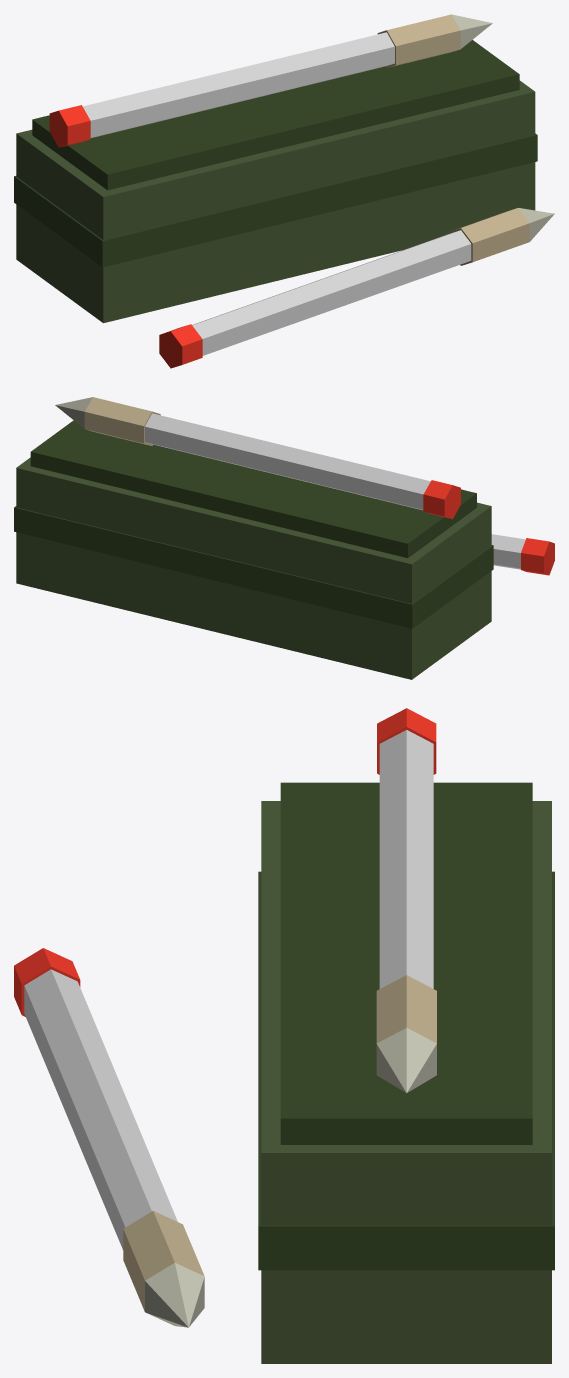
File: ce_ammo2_s5_heat_c.obj
3 views of the same model, one above another, from view 1: azimuth 30°, elevation 25°; view 2: azimuth 150°, elevation 25°; view 3: azimuth 270°, elevation 25° (orthographic). The views are drawn at different scales.
Visible parts, largest first — view 1: ce_ammo2_s5_heat_c_0, ce_ammo2_s5_heat_c_1, ce_ammo2_s5_heat_c_2, ce_ammo2_s5_heat_c_4, ce_ammo2_s5_heat_c_8, ce_ammo2_s5_heat_c_5, ce_ammo2_s5_heat_c_9, ce_ammo2_s5_heat_c_7, ce_ammo2_s5_heat_c_3, ce_ammo2_s5_heat_c_6, ce_ammo2_s5_heat_c_10; view 2: ce_ammo2_s5_heat_c_0, ce_ammo2_s5_heat_c_1, ce_ammo2_s5_heat_c_2, ce_ammo2_s5_heat_c_4, ce_ammo2_s5_heat_c_5, ce_ammo2_s5_heat_c_3, ce_ammo2_s5_heat_c_7, ce_ammo2_s5_heat_c_8, ce_ammo2_s5_heat_c_6; view 3: ce_ammo2_s5_heat_c_1, ce_ammo2_s5_heat_c_0, ce_ammo2_s5_heat_c_8, ce_ammo2_s5_heat_c_2, ce_ammo2_s5_heat_c_4, ce_ammo2_s5_heat_c_9, ce_ammo2_s5_heat_c_5, ce_ammo2_s5_heat_c_10, ce_ammo2_s5_heat_c_6, ce_ammo2_s5_heat_c_7, ce_ammo2_s5_heat_c_3.
Boxes of the visible parts, x1,y1,x2,y2 form: ce_ammo2_s5_heat_c_0: (16, 80, 535, 323); ce_ammo2_s5_heat_c_1: (32, 40, 519, 190); ce_ammo2_s5_heat_c_2: (14, 133, 537, 267); ce_ammo2_s5_heat_c_4: (82, 32, 394, 137); ce_ammo2_s5_heat_c_8: (192, 230, 471, 355); ce_ammo2_s5_heat_c_5: (377, 14, 460, 67); ce_ammo2_s5_heat_c_9: (449, 208, 529, 265); ce_ammo2_s5_heat_c_7: (159, 324, 202, 368); ce_ammo2_s5_heat_c_3: (49, 105, 90, 147); ce_ammo2_s5_heat_c_6: (451, 14, 492, 48); ce_ammo2_s5_heat_c_10: (518, 208, 554, 241); ce_ammo2_s5_heat_c_0: (16, 457, 491, 679); ce_ammo2_s5_heat_c_1: (30, 420, 476, 557); ce_ammo2_s5_heat_c_2: (14, 506, 493, 628); ce_ammo2_s5_heat_c_4: (145, 413, 430, 510); ce_ammo2_s5_heat_c_5: (84, 397, 160, 445); ce_ammo2_s5_heat_c_3: (423, 480, 460, 518); ce_ammo2_s5_heat_c_7: (521, 538, 554, 575); ce_ammo2_s5_heat_c_8: (491, 534, 525, 569); ce_ammo2_s5_heat_c_6: (55, 397, 92, 428); ce_ammo2_s5_heat_c_1: (280, 782, 532, 1144); ce_ammo2_s5_heat_c_0: (261, 801, 551, 1363); ce_ammo2_s5_heat_c_8: (24, 969, 177, 1249); ce_ammo2_s5_heat_c_2: (258, 871, 554, 1270); ce_ammo2_s5_heat_c_4: (379, 730, 433, 988); ce_ammo2_s5_heat_c_9: (123, 1211, 204, 1311); ce_ammo2_s5_heat_c_5: (376, 975, 436, 1043); ce_ammo2_s5_heat_c_10: (145, 1263, 204, 1327); ce_ammo2_s5_heat_c_6: (376, 1028, 436, 1093); ce_ammo2_s5_heat_c_7: (14, 948, 80, 1016); ce_ammo2_s5_heat_c_3: (377, 708, 436, 774).
Bounding box in the file's own units: 0.866 × 0.3453 × 0.5583.
